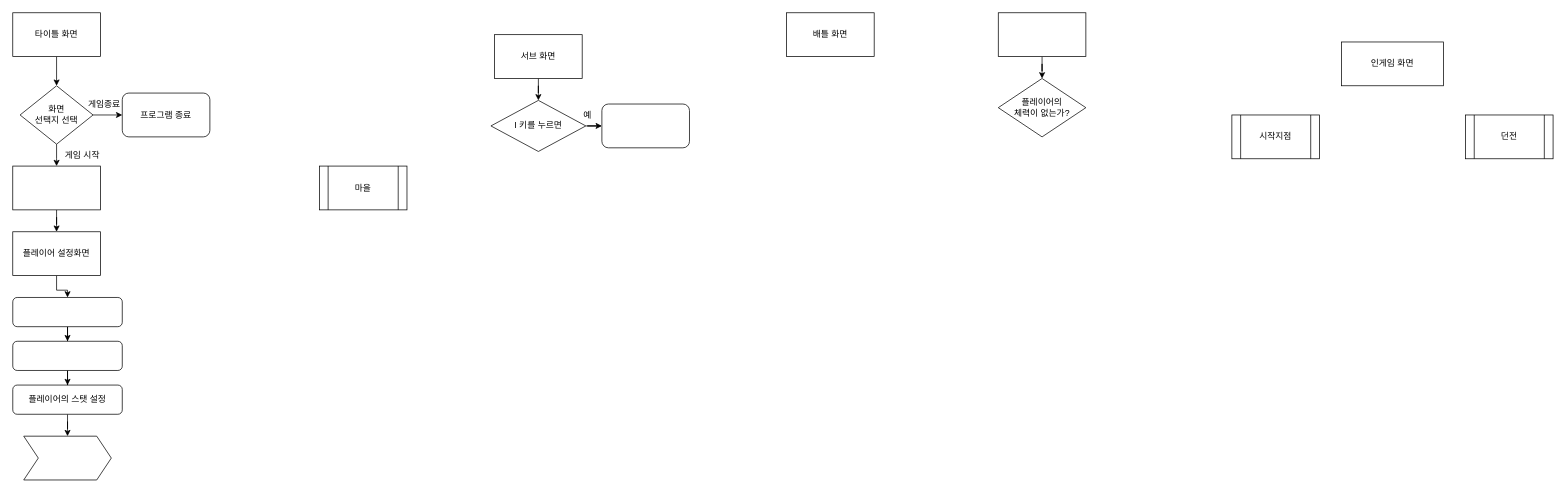
Some shapes in this 1566 by 493 pixel diagram are drawn without their labels. The shapes that lost their labels are listed below. From the top down, each one's box as (x1, y1, x2, y2) in pixels, then its label:
(998, 12, 1086, 57): 엔딩화면
(601, 103, 689, 148): 인벤토리 화면으로 활성화
(12, 165, 100, 210): 인트로 화면
(12, 297, 122, 327): 플레이어의 이름 설정
(12, 341, 122, 370): 플레이어의 배경 설정
(23, 435, 111, 480): 인게임 화면으로 이동
